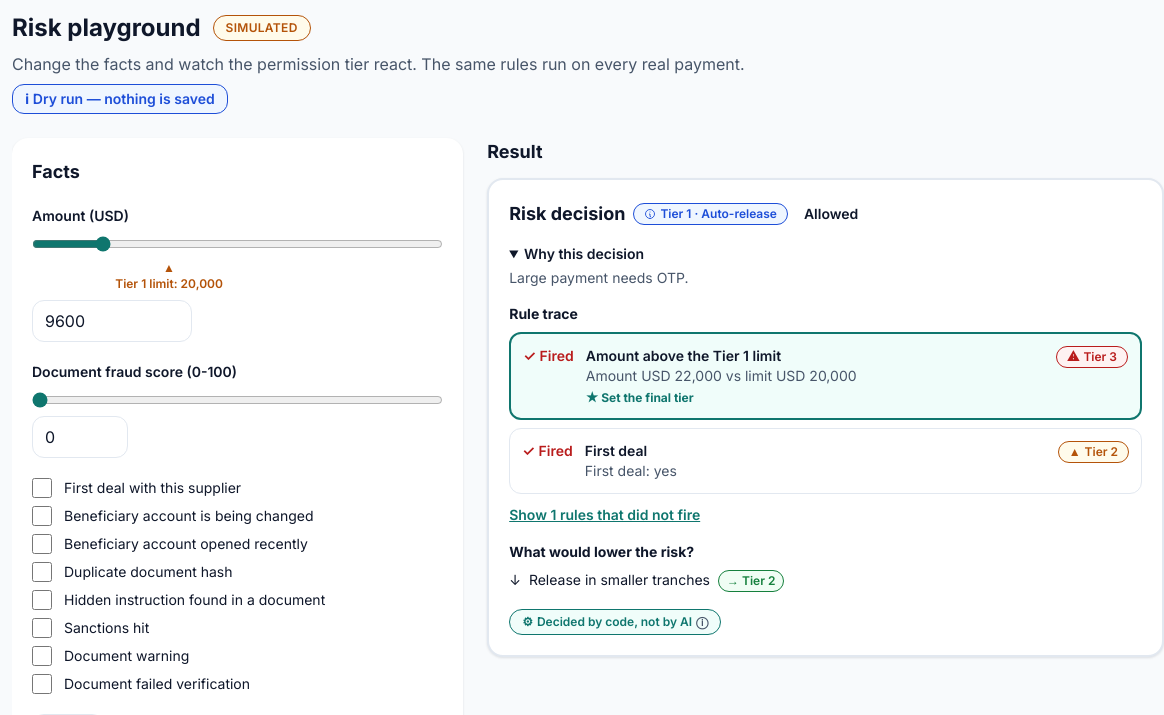
Scenario: RiskPlayground › shows the dry-run and Simulated notes and updates the tier badge after the debounce
The image size is (1164, 715).
Check: the text "Dry run — nothing is saved" is shown, box [33, 90, 215, 107]
Check: the text "Simulated" is shown, box [213, 15, 311, 41]
Click the checkbox labelled "Sanctions hit". click: (42, 628)
box: [32, 618, 52, 638]
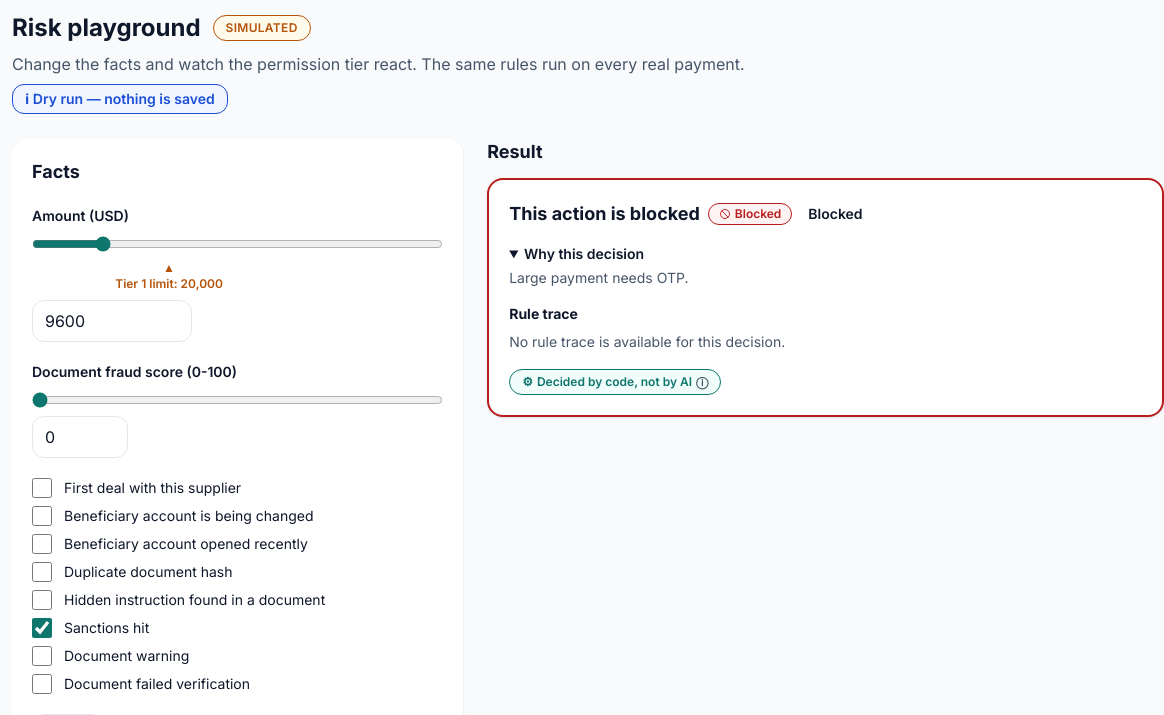
Check: the text with test id "risk-decision" reads "Blocked", box [808, 205, 863, 222]
